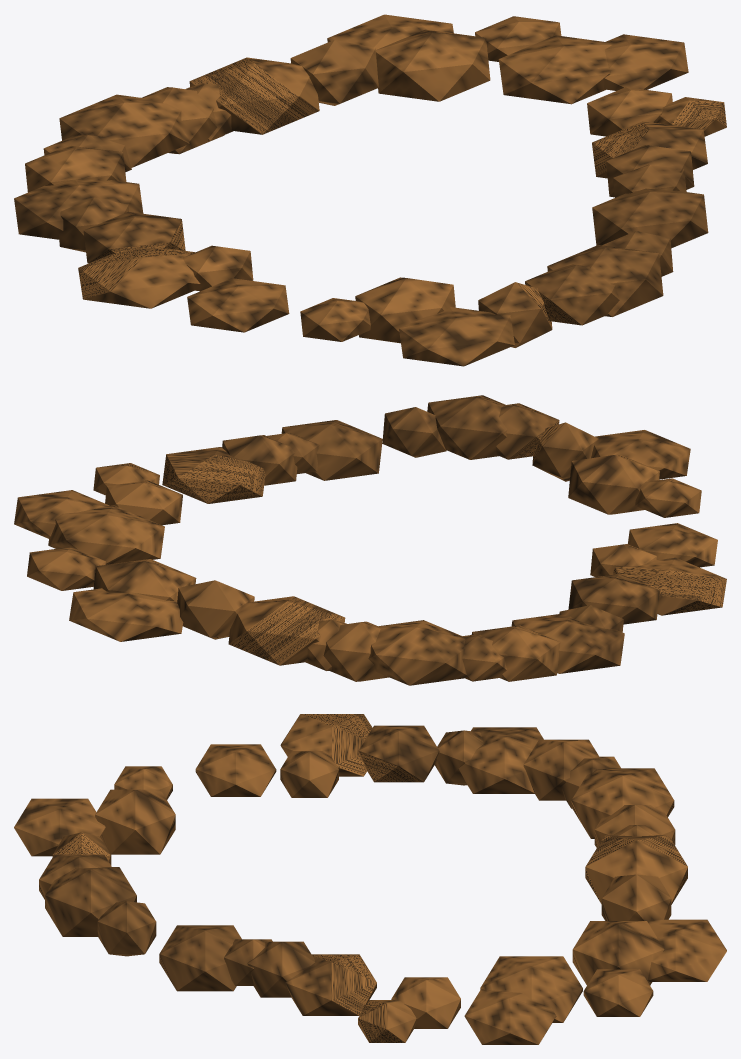
The model's file is isolated_spring.glb.
3 views of the same model, one above another, from view 1: azimuth 30°, elevation 25°; view 2: azimuth 150°, elevation 25°; view 3: azimuth 270°, elevation 25° (orthographic). The views are drawn at different scales.
Visible parts, largest first — view 1: isolated_spring; view 2: isolated_spring; view 3: isolated_spring.
Part boxes in pixels (x1,y1,x2,y2): isolated_spring: (14,14,726,366); isolated_spring: (14,395,726,685); isolated_spring: (14,714,726,1044).
Bounding box in the file's own units: 3.83 × 0.39 × 3.52.
1 material, 1 textured.
